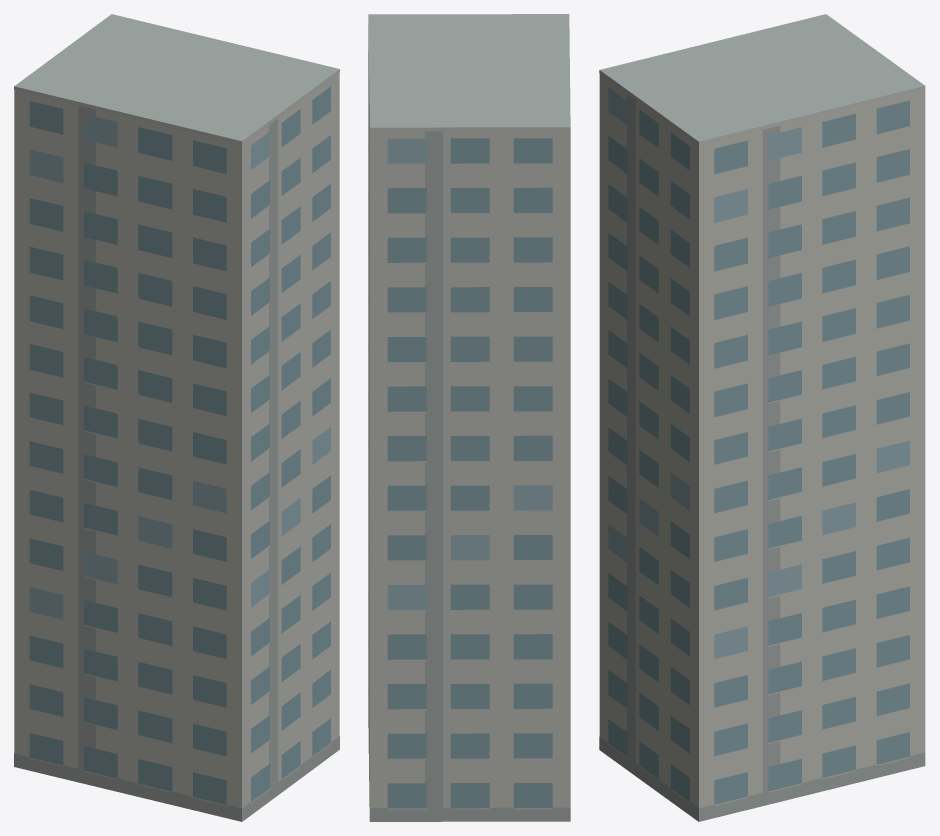
Rendered from residential-c79d4fc9-87c7-450e-bf44-a92ad525f01a.glb.
The picture shows the model from 3 angles, left to right: view 1: azimuth 30°, elevation 25°; view 2: azimuth 150°, elevation 25°; view 3: azimuth 270°, elevation 25°; orthographic projection. The views are drawn at different scales.
Visible parts, largest first — view 1: residential-c79d4fc9-87c7-450e-bf44-a92ad525f01a.tmp; view 2: residential-c79d4fc9-87c7-450e-bf44-a92ad525f01a.tmp; view 3: residential-c79d4fc9-87c7-450e-bf44-a92ad525f01a.tmp.
Part boxes in pixels (left/top/right/bottom): residential-c79d4fc9-87c7-450e-bf44-a92ad525f01a.tmp: left=14, top=14, right=339, bottom=821; residential-c79d4fc9-87c7-450e-bf44-a92ad525f01a.tmp: left=368, top=14, right=570, bottom=821; residential-c79d4fc9-87c7-450e-bf44-a92ad525f01a.tmp: left=599, top=14, right=925, bottom=821.
Size of the model in its own units: 17.73 by 44 by 19.11.
